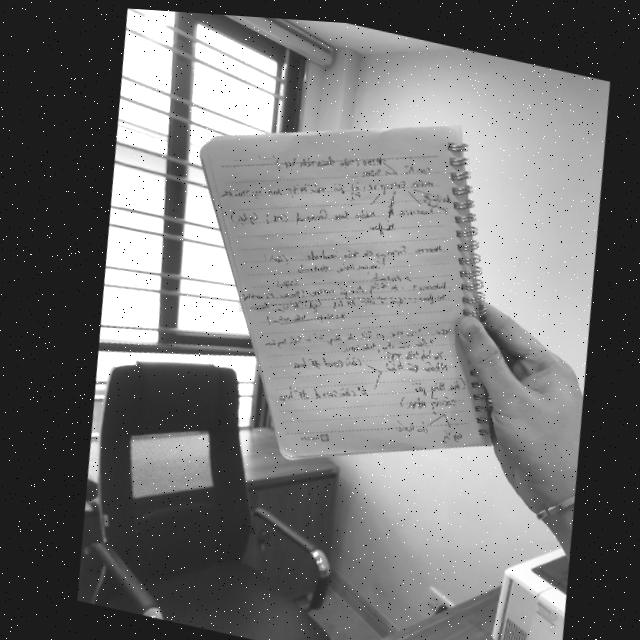document: (195, 124, 494, 460)
